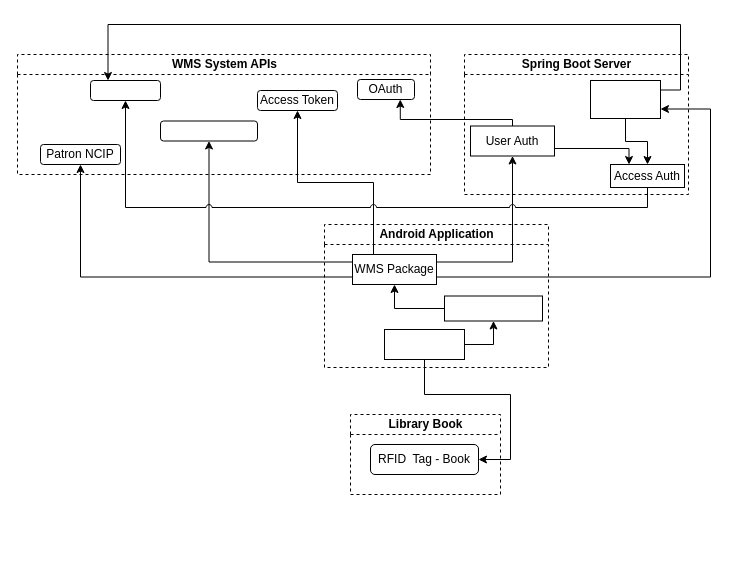
Some shapes in this 736 by 575 pixel diagram are drawn without their labels. The shapes that lost their labels are listed below. From the top down, each one's box as (x1, y1, x2, y2) in pixels, then its label:
(90, 80, 160, 100): Staff NCIP
(590, 80, 660, 118): Checkout Request
(160, 120, 258, 141): ID Management
(444, 295, 542, 321): Main Package
(384, 328, 464, 360): NFC Package
